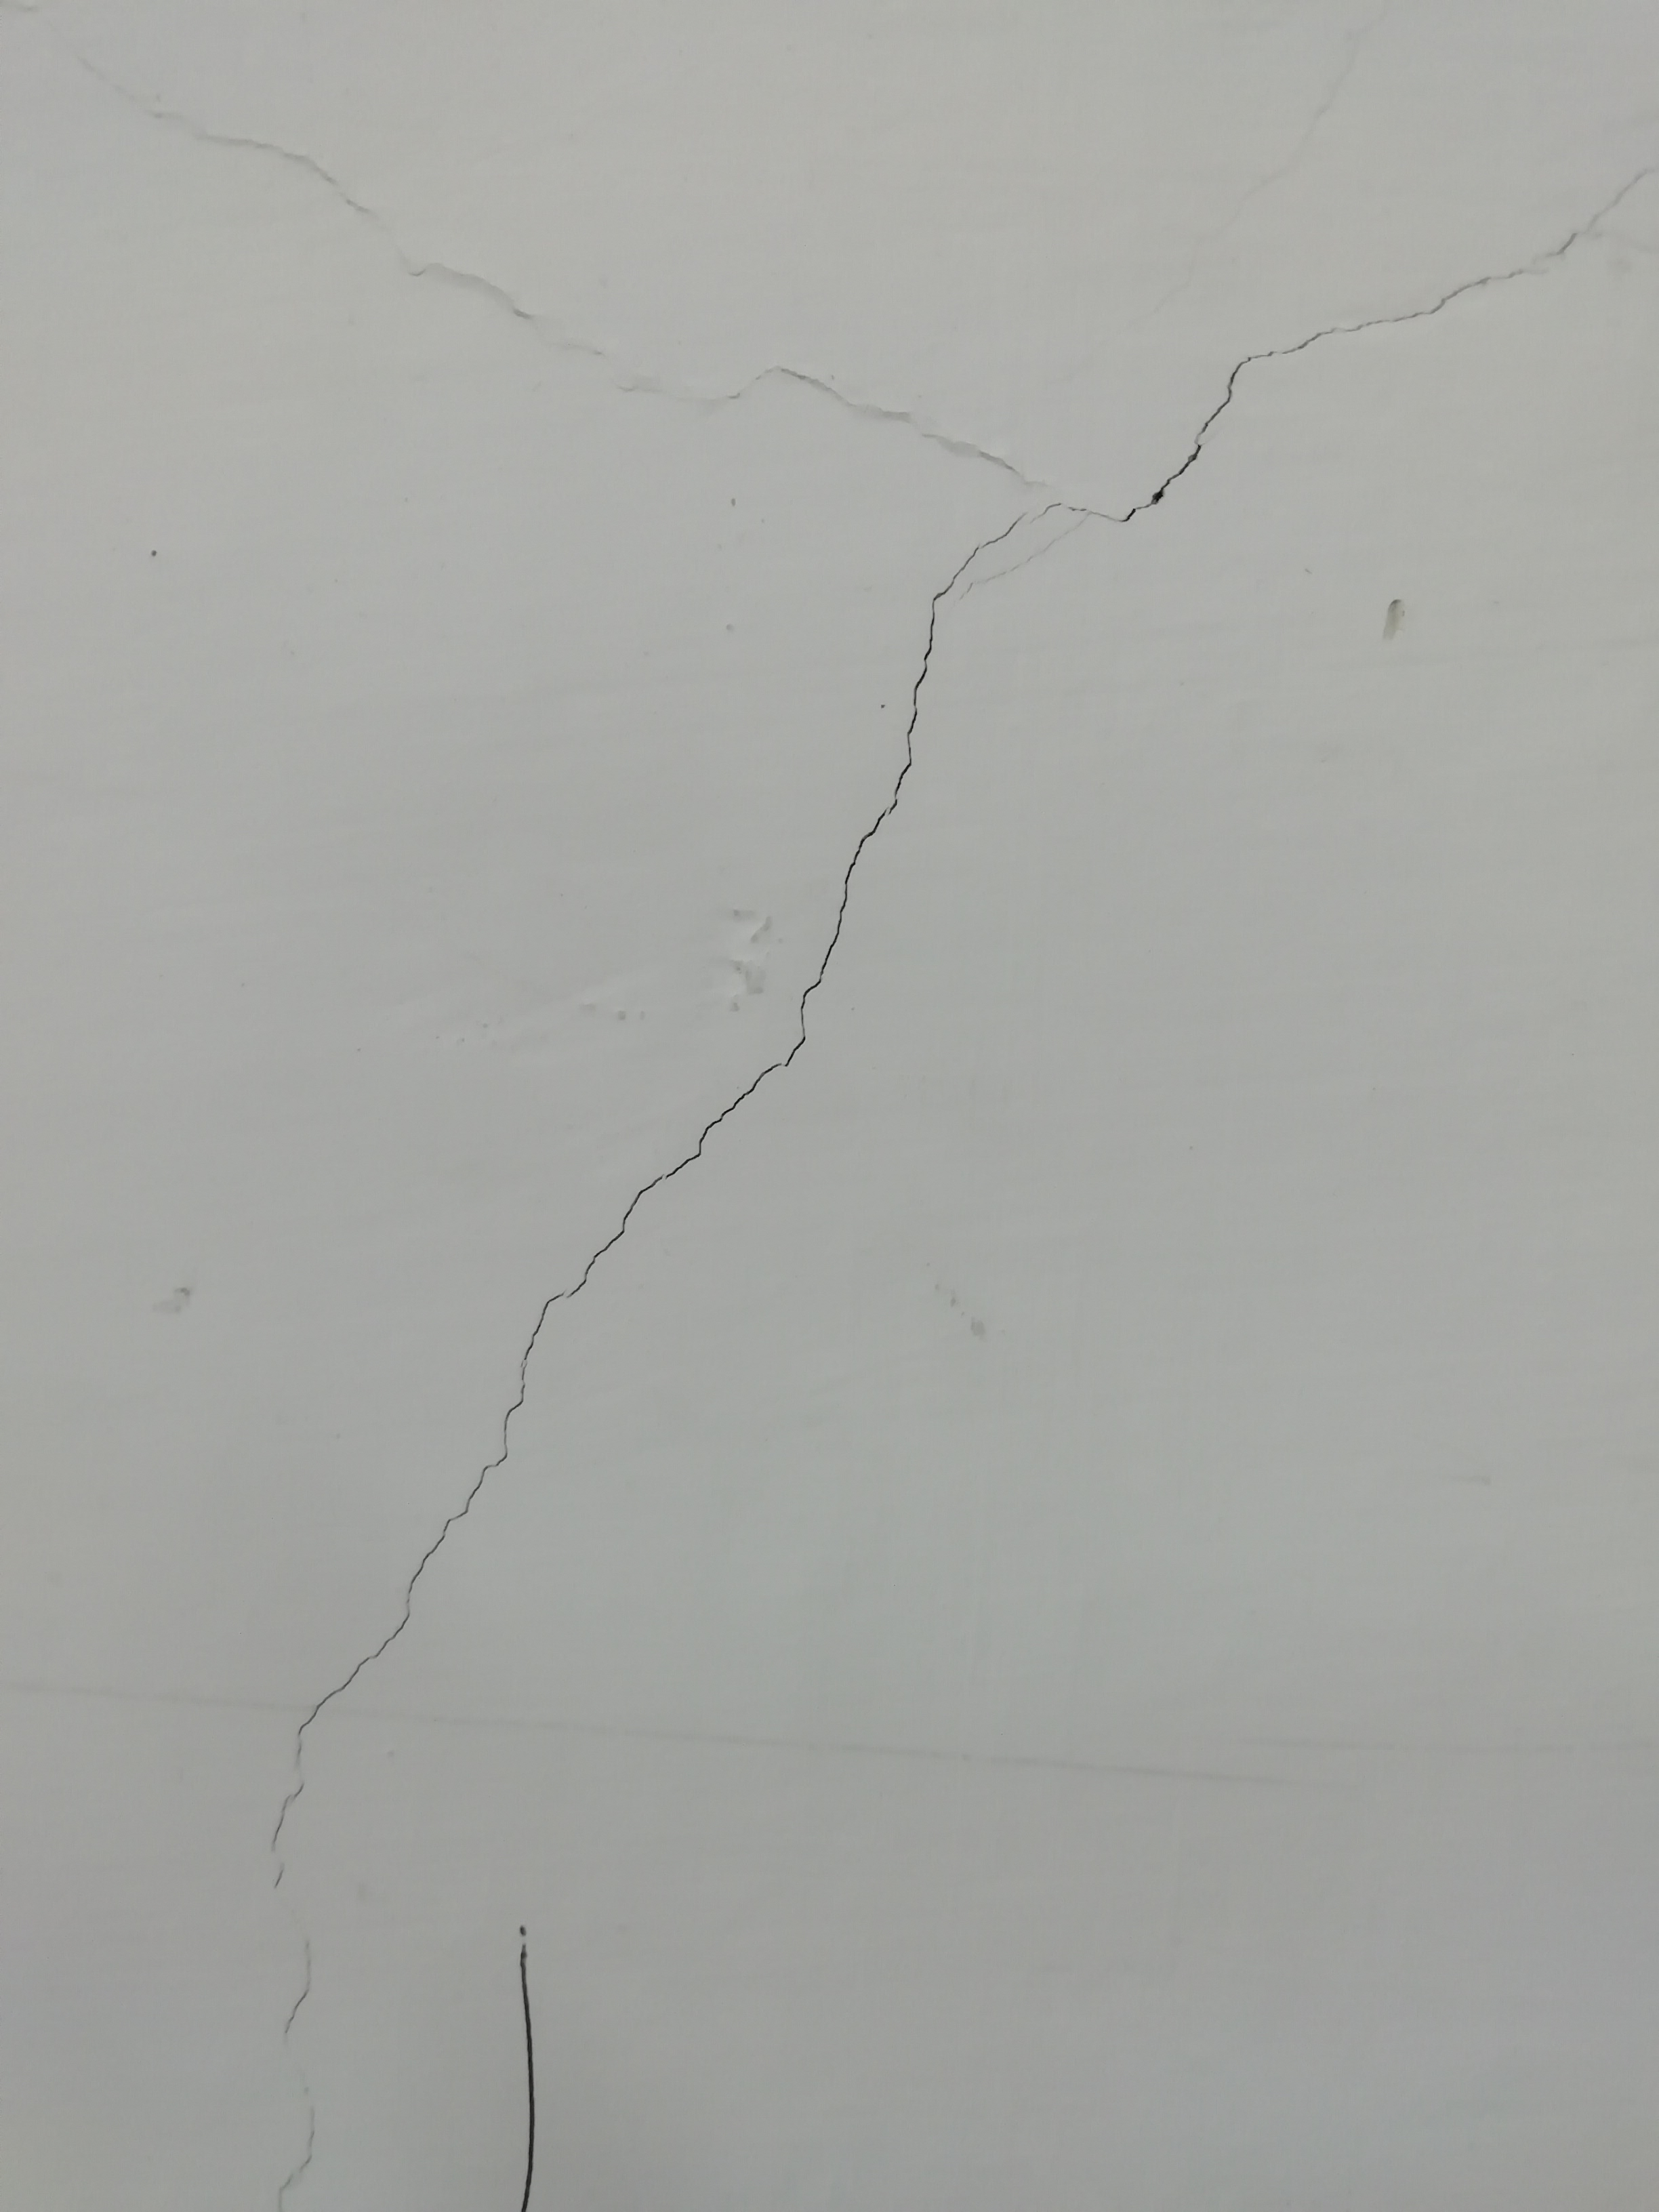Crack: (291, 1047, 795, 1797), (800, 592, 950, 1029), (1101, 354, 1277, 524), (500, 1935, 551, 2212)
